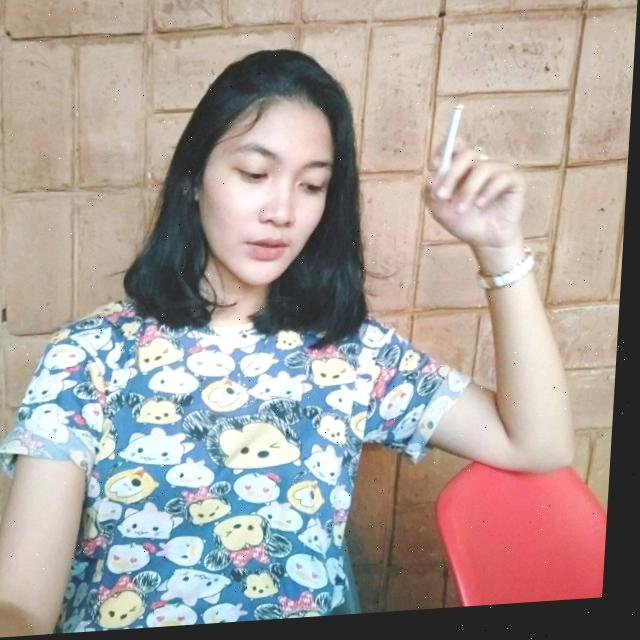cigarette: (431, 110, 466, 206)
